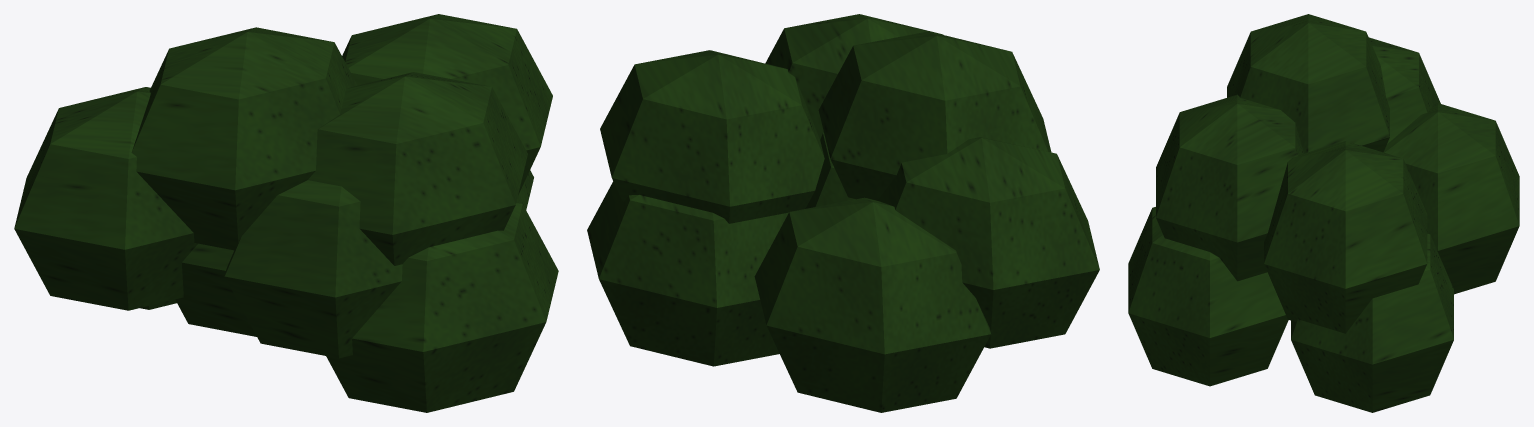
The model's file is PROP-CE1E7C480E20_lod2.glb.
3 renders of one model, left to right at view 1: azimuth 30°, elevation 25°; view 2: azimuth 150°, elevation 25°; view 3: azimuth 270°, elevation 25°, orthographic. The views are drawn at different scales.
Parts seen in each view (by area): view 1: foliage.009; view 2: foliage.009; view 3: foliage.009.
Boxes of the visible parts, x1=… form: foliage.009: x1=14, y1=14, x2=558, y2=412; foliage.009: x1=587, y1=14, x2=1099, y2=412; foliage.009: x1=1128, y1=14, x2=1519, y2=412.
Bounding box in the file's own units: 1.29 × 0.8487 × 0.9961.
1 material, 1 textured.
